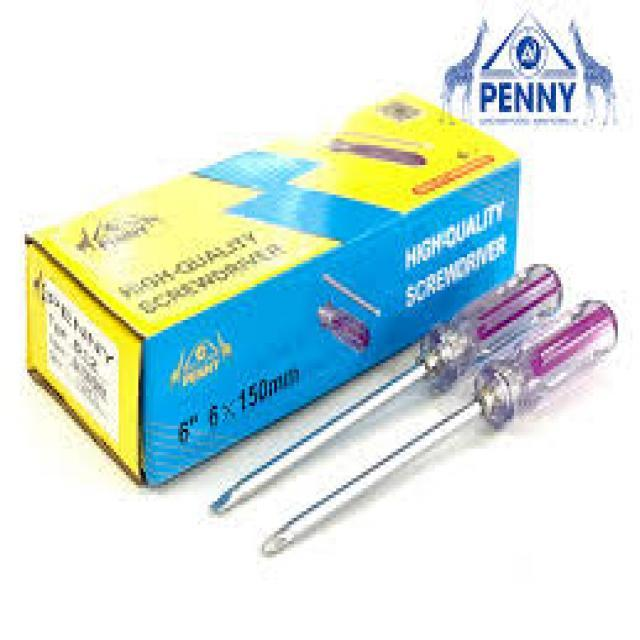screwdriver: (253, 295, 619, 559), (206, 263, 562, 516)
